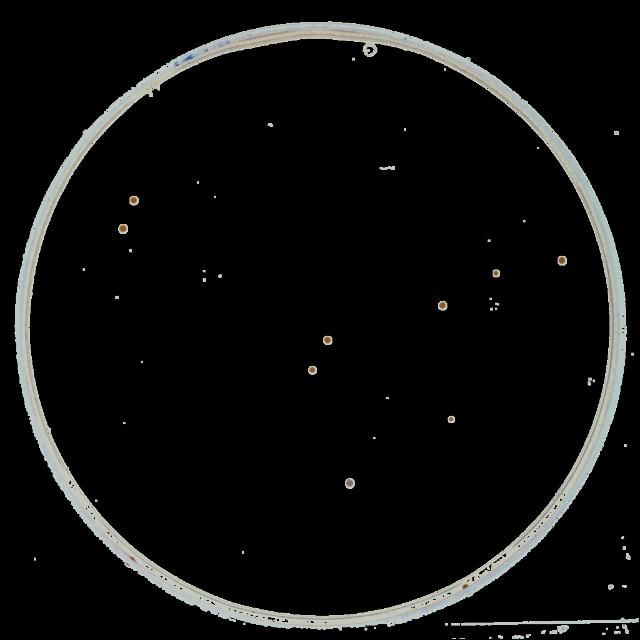colony: (557, 256, 567, 266), (439, 300, 447, 312), (119, 224, 128, 233), (308, 366, 316, 376), (346, 478, 354, 488), (130, 197, 138, 206), (324, 336, 332, 344), (448, 415, 456, 423), (492, 269, 500, 277), (462, 584, 468, 588)
